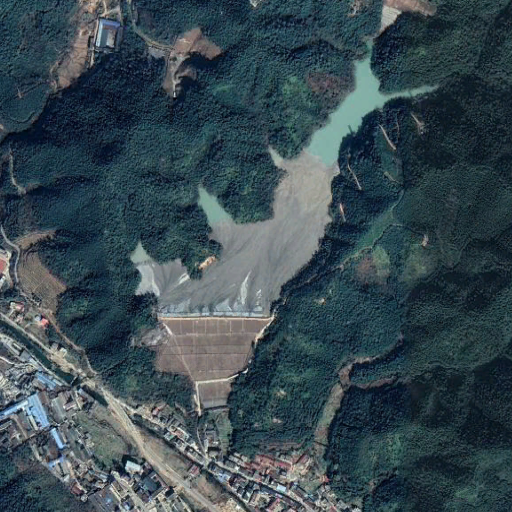tp: (132, 48, 440, 410)
